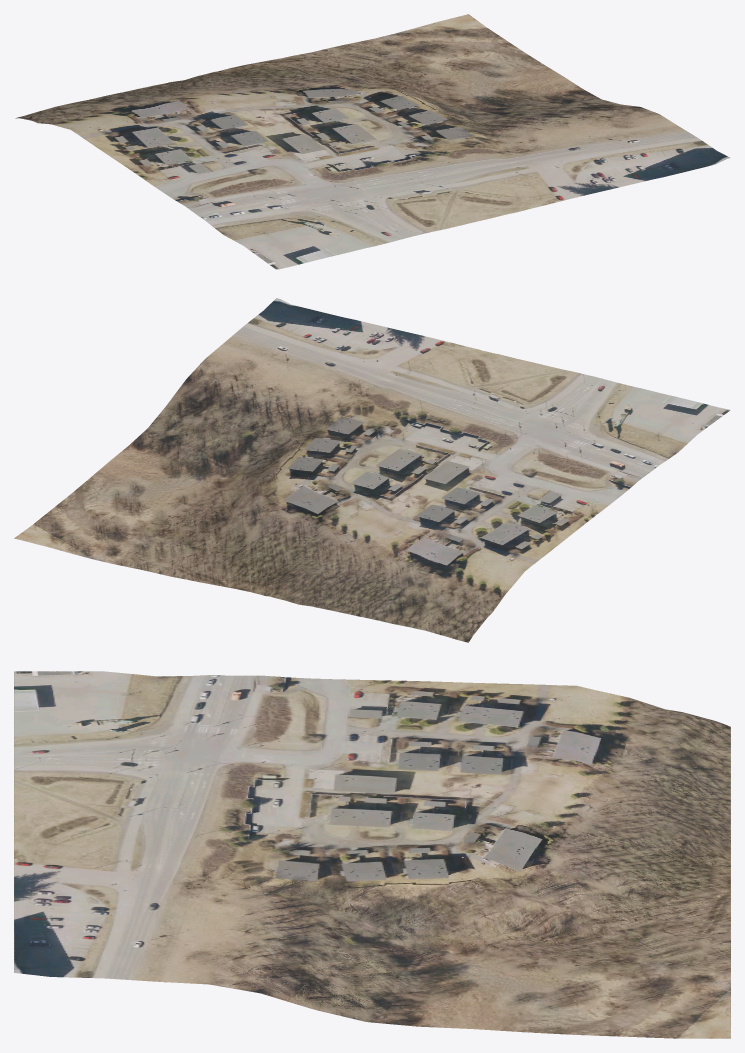
File: CM_Terrain_24491482_6818770.fbx
3 views of the same model, one above another, from view 1: azimuth 30°, elevation 25°; view 2: azimuth 150°, elevation 25°; view 3: azimuth 270°, elevation 25° (orthographic). The views are drawn at different scales.
Visible parts, largest first — view 1: CM_Terrain_24491482_6818770_LOD0; view 2: CM_Terrain_24491482_6818770_LOD0; view 3: CM_Terrain_24491482_6818770_LOD0.
Boxes of the visible parts, <box> form: CM_Terrain_24491482_6818770_LOD0: <box>15,14,730,269</box>; CM_Terrain_24491482_6818770_LOD0: <box>14,298,730,642</box>; CM_Terrain_24491482_6818770_LOD0: <box>14,671,730,1038</box>.
Size of what is drawn, in the model's own units: 205 by 21.47 by 205.
